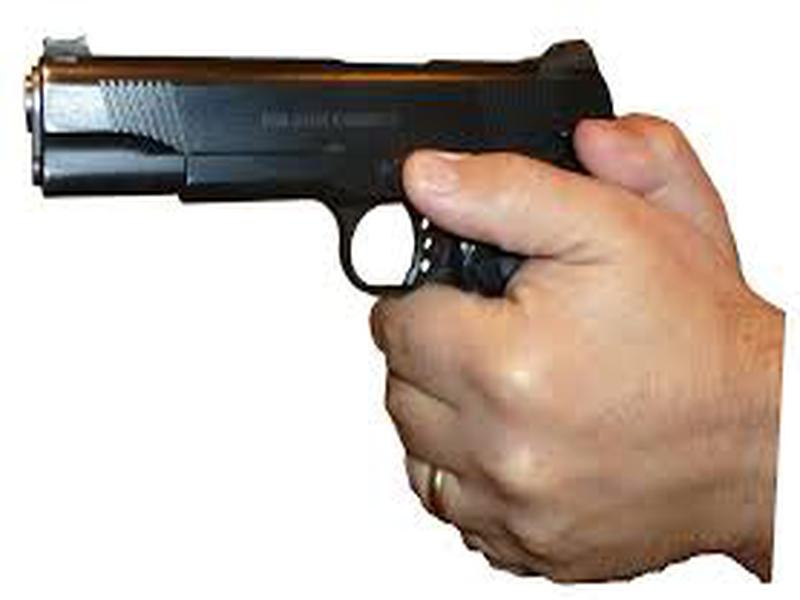gun: (17, 27, 791, 584)
